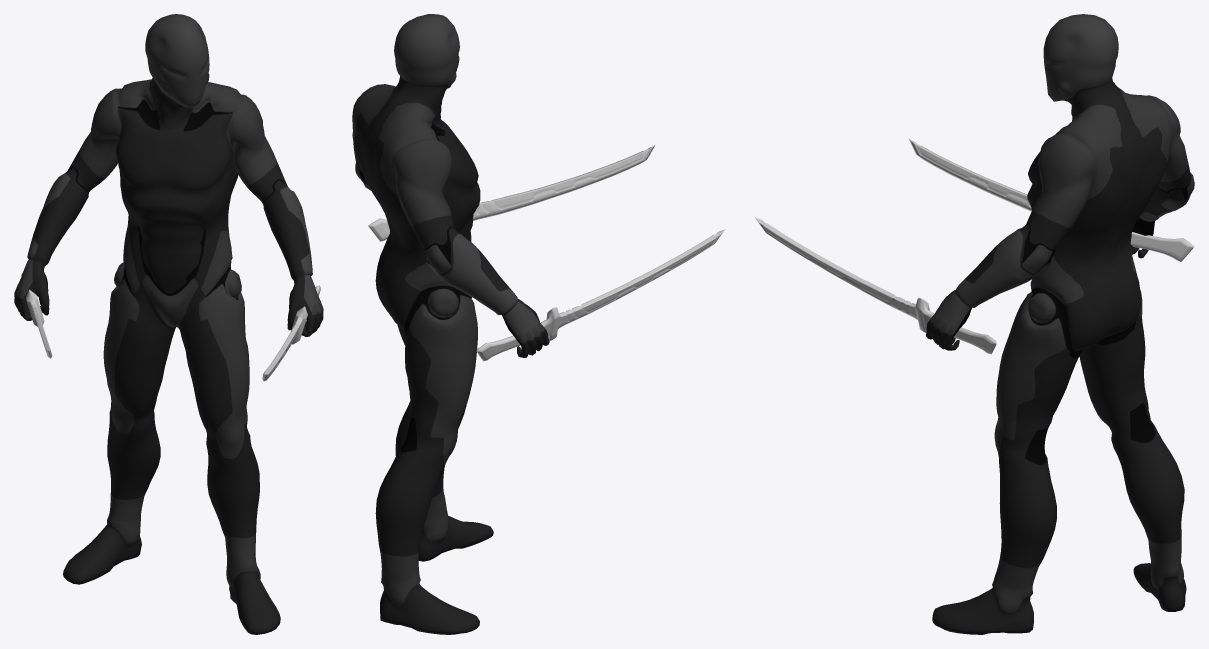
The picture shows the model from 3 angles, left to right: view 1: azimuth 30°, elevation 25°; view 2: azimuth 150°, elevation 25°; view 3: azimuth 270°, elevation 25°; orthographic projection. The views are drawn at different scales.
Visible parts, largest first — view 1: Cyborg_Ninja_Killer, Sword_l, Sword_l001; view 2: Cyborg_Ninja_Killer, Sword_l001, Sword_l; view 3: Cyborg_Ninja_Killer, Sword_l, Sword_l001.
Part boxes in pixels (x1,y1,x2,y2): Cyborg_Ninja_Killer: [14, 14, 323, 634]; Sword_l: [262, 285, 320, 381]; Sword_l001: [21, 272, 52, 358]; Cyborg_Ninja_Killer: [352, 14, 549, 634]; Sword_l001: [476, 229, 725, 361]; Sword_l: [368, 145, 655, 241]; Cyborg_Ninja_Killer: [926, 14, 1194, 634]; Sword_l: [754, 217, 996, 354]; Sword_l001: [908, 138, 1194, 261].
Size of the model in its own units: 105 by 182 by 122.
